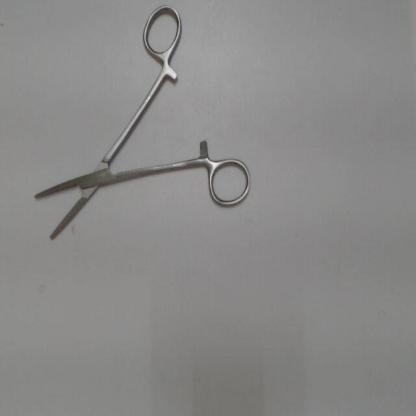Mayo Needle Holder: (27, 1, 259, 252)
